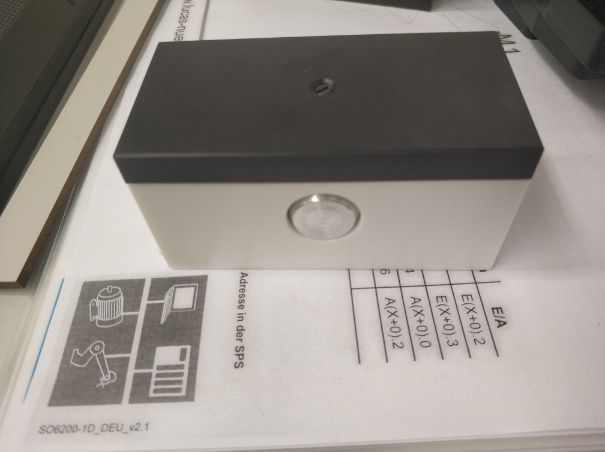black+white+silver: (109, 28, 549, 275)
